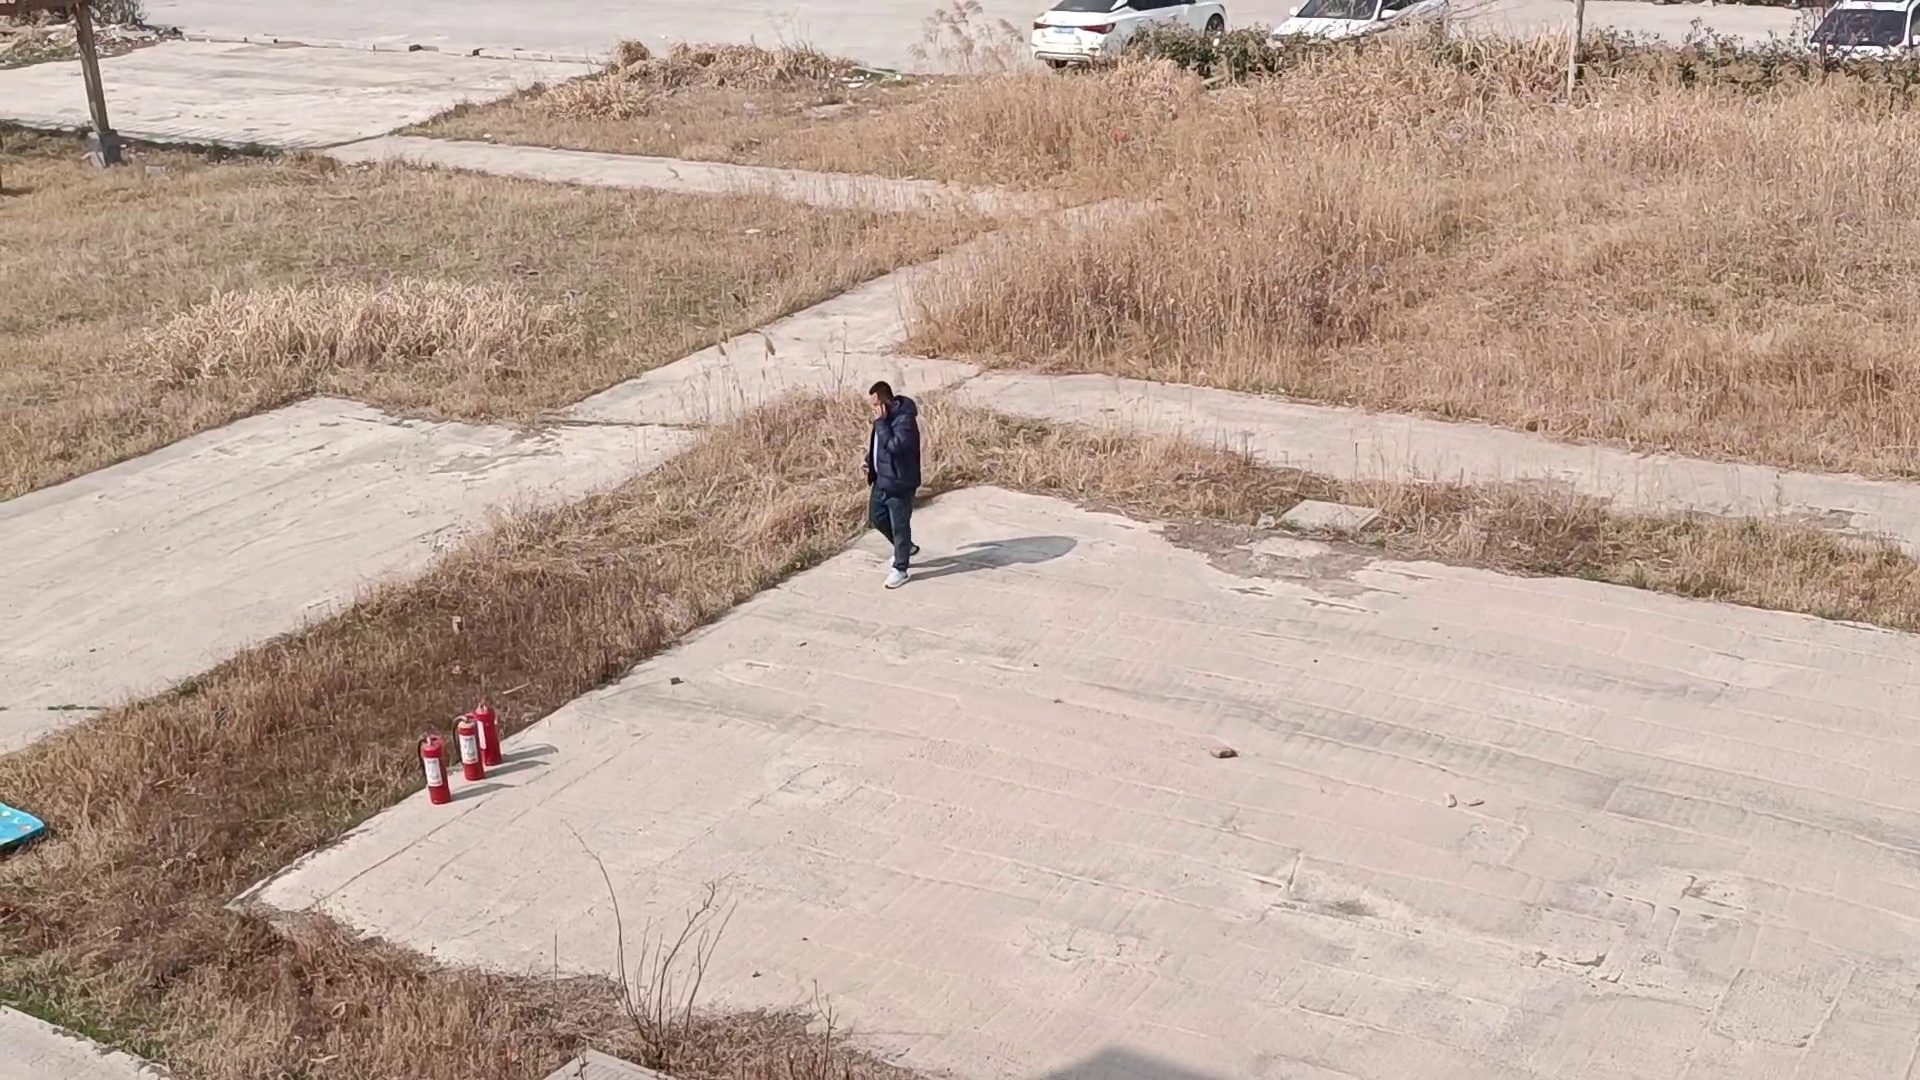phone: (862, 368, 907, 430)
